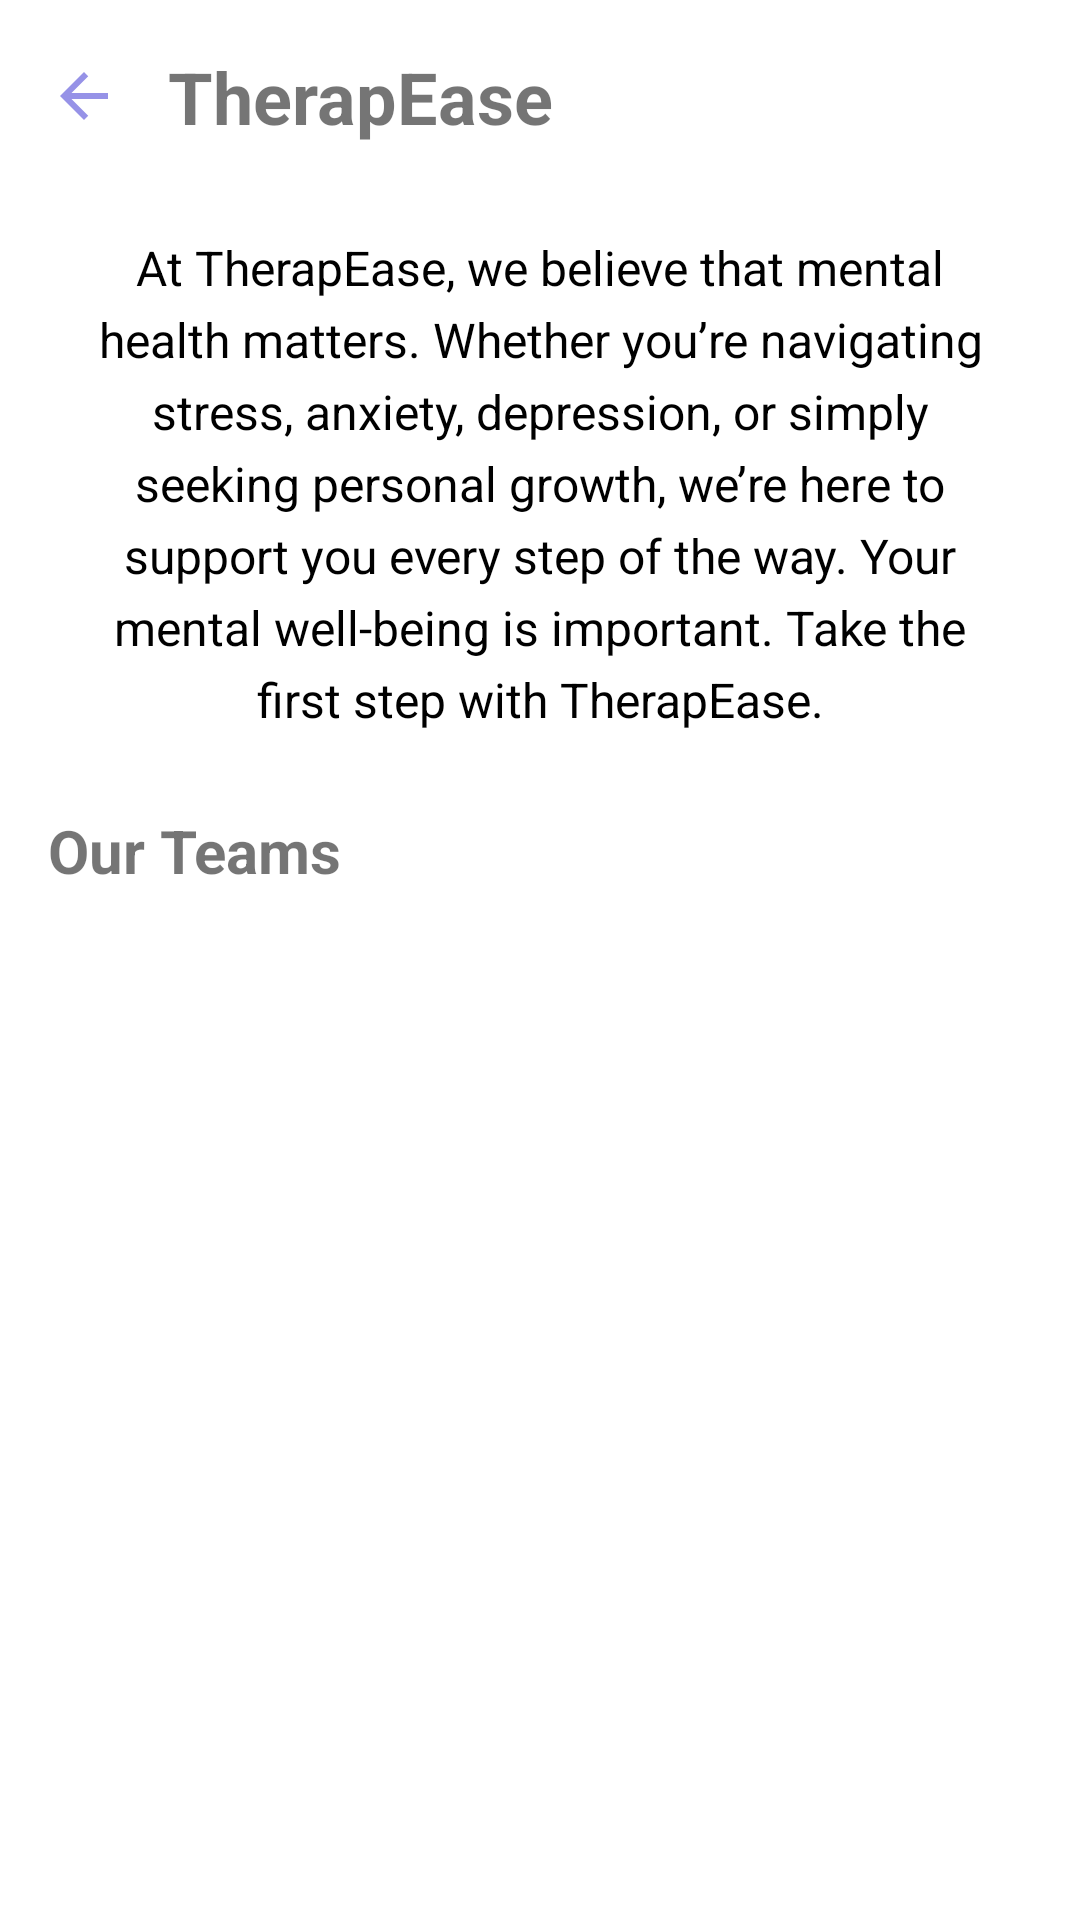

Named icons in this screenshot (1080px×1920px) and their bounding boxes, rect(x1, y1, x2, y2):
Back: rect(60, 72, 108, 120)
